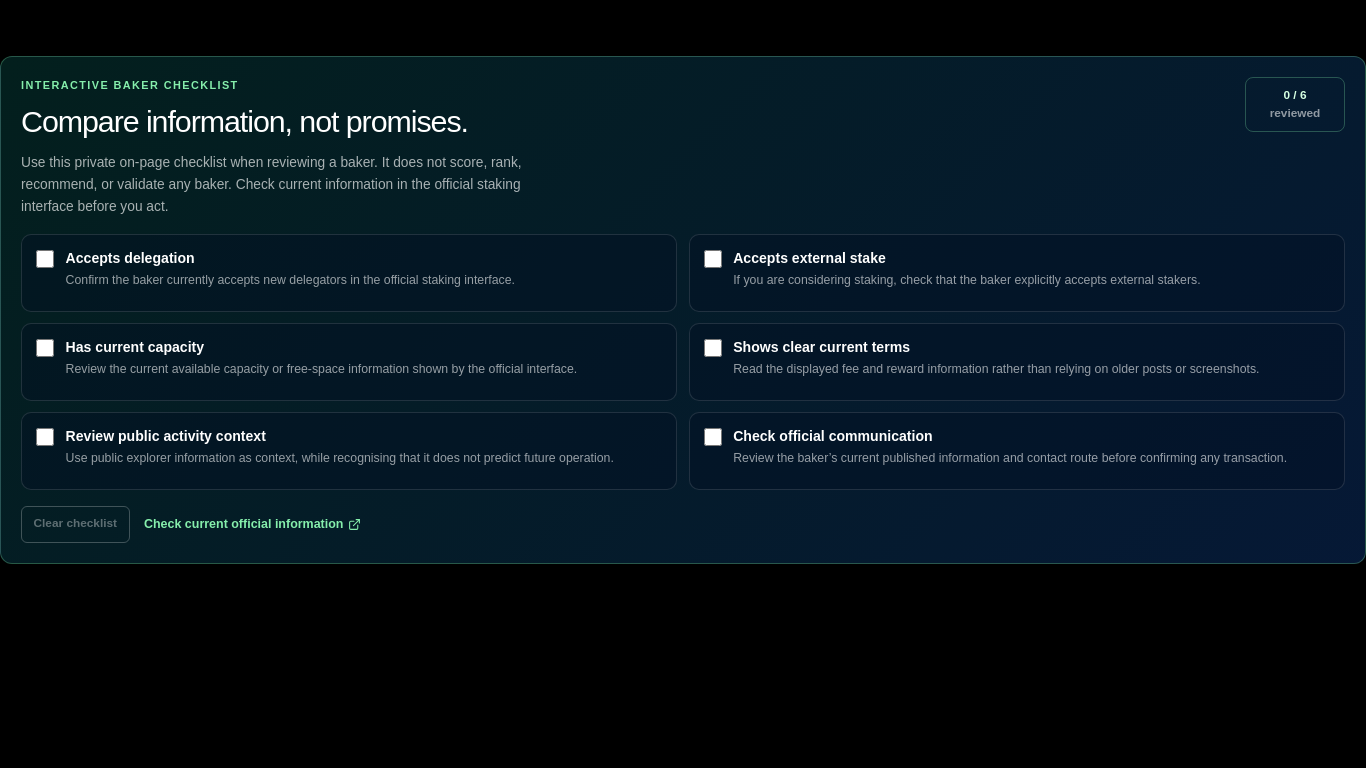
Scenario: BakerComparisonChecklist › tracks reviewed criteria without scoring or ranking bakers
Expected: the text "0 / 6" is shown, x1=1245 y1=77 x2=1345 y2=132
Expected: the text "does not score, rank, recommend" is shown, x1=21 y1=155 x2=522 y2=214
Click the checkbox labelled "Accepts delegation" at [45, 259], box x1=36 y1=250 x2=54 y2=268
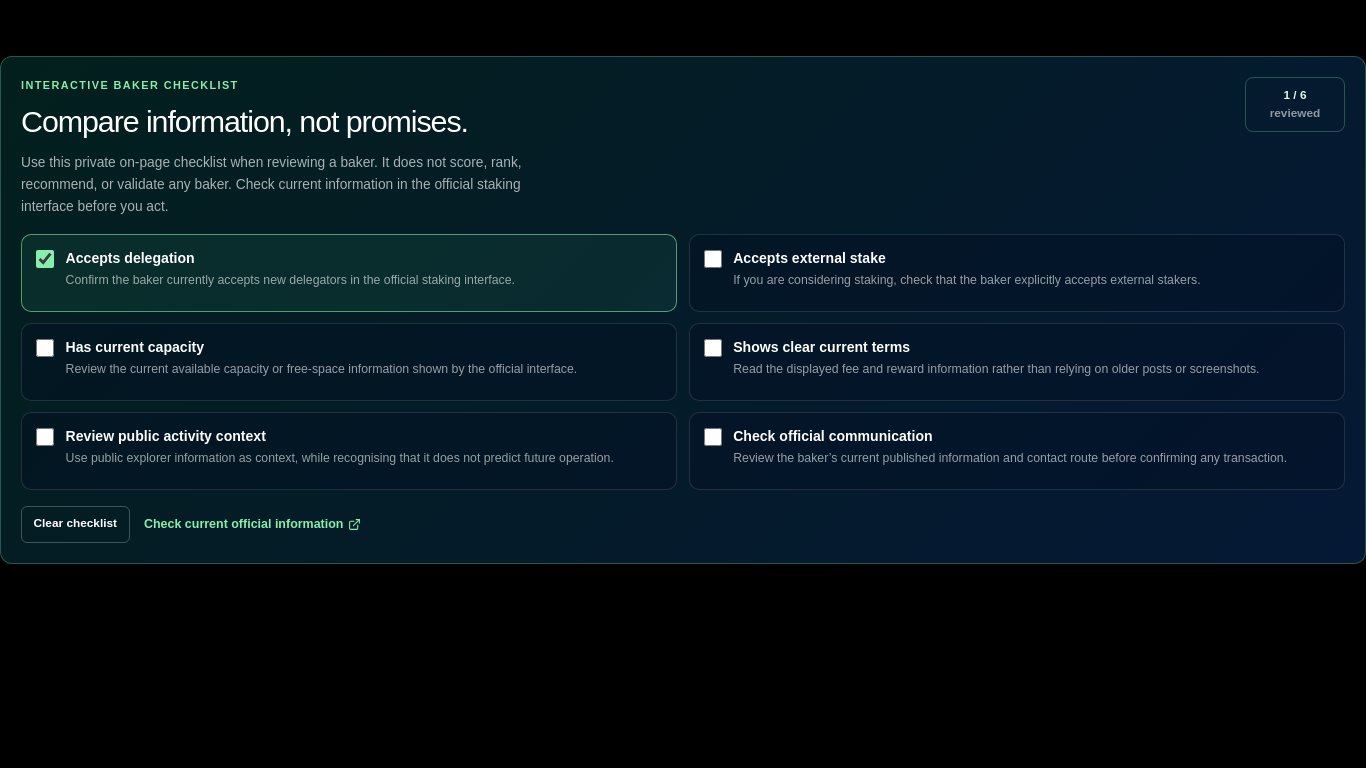
Click the checkbox labelled "Has current capacity" at [45, 348], box x1=36 y1=339 x2=54 y2=357
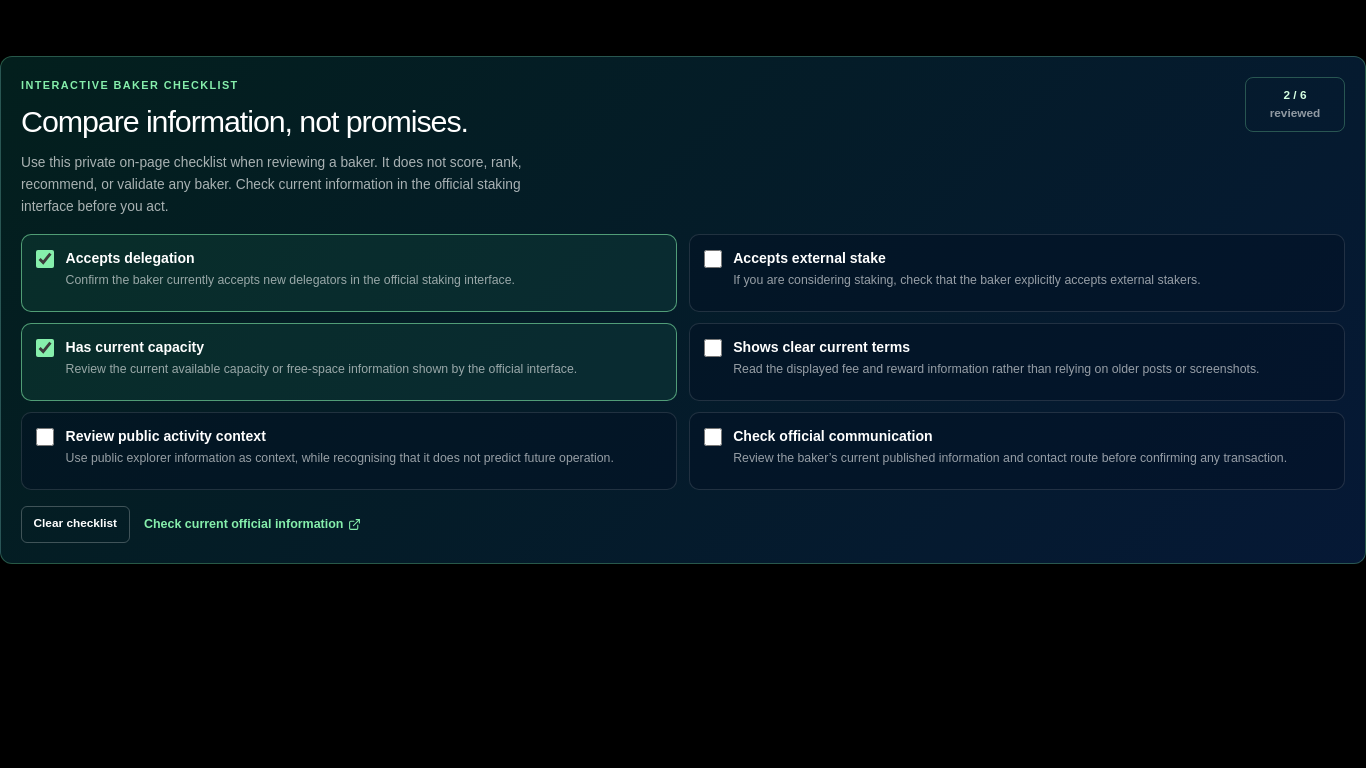
Expected: the button "Clear checklist" is enabled
Expected: the text "2 / 6" is shown, x1=1245 y1=77 x2=1345 y2=132
Click the button "Clear checklist" at [75, 524], box x1=21 y1=506 x2=130 y2=542
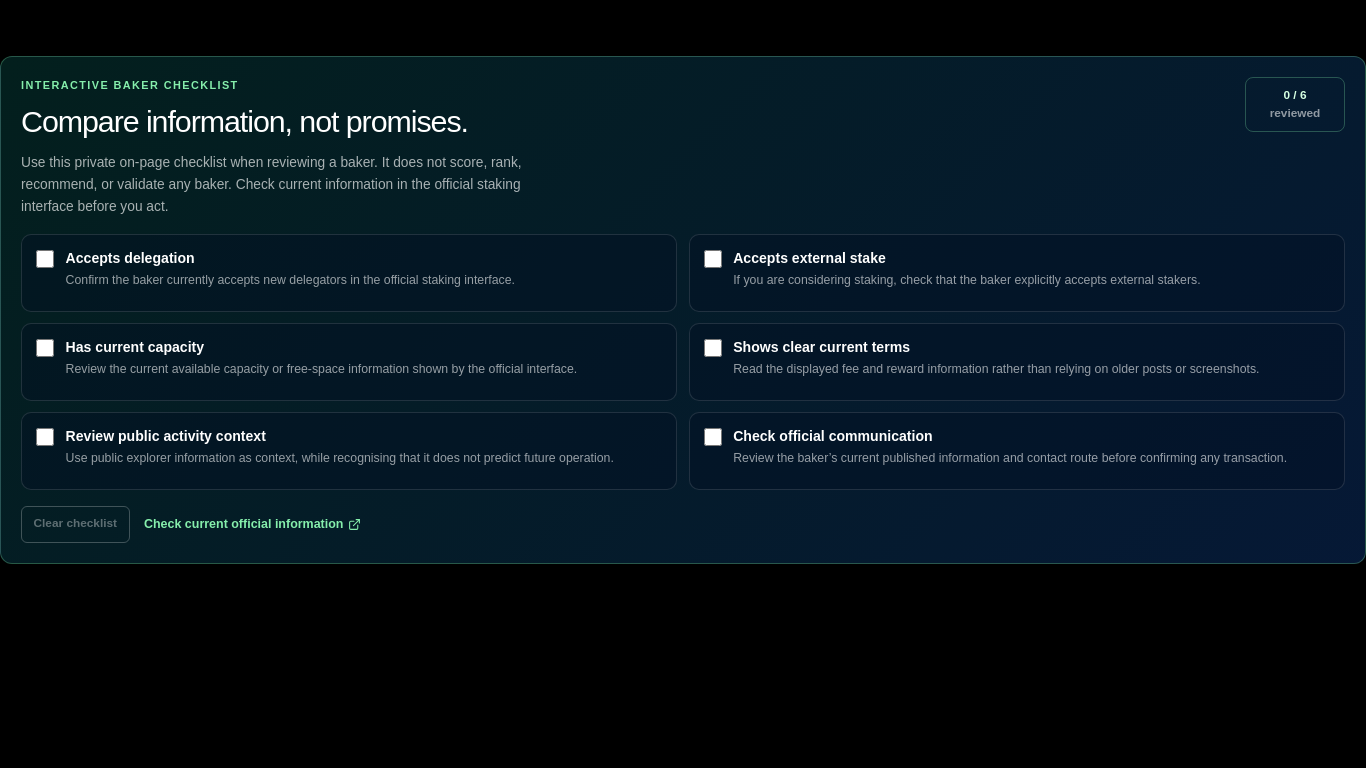
Expected: the text "0 / 6" is shown, x1=1245 y1=77 x2=1345 y2=132
